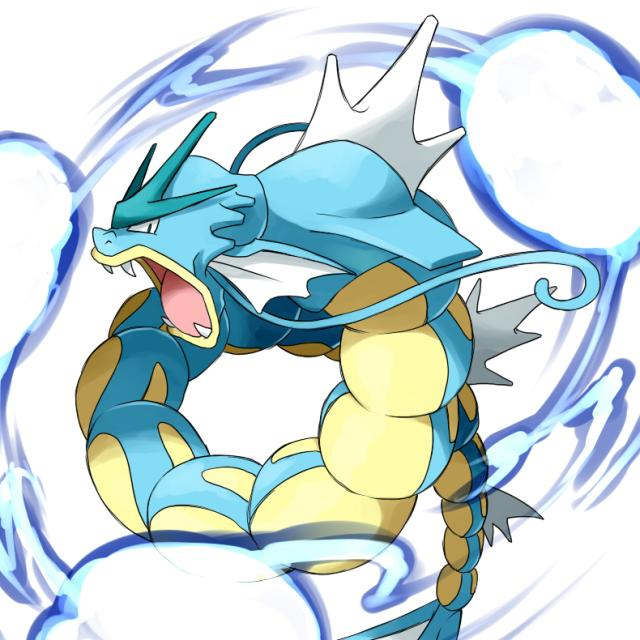Gyarados: (90, 122, 472, 526)
